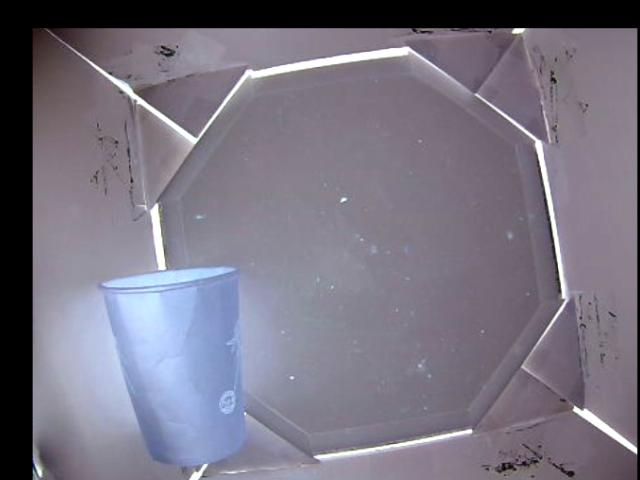Cup: (94, 268, 243, 461)
